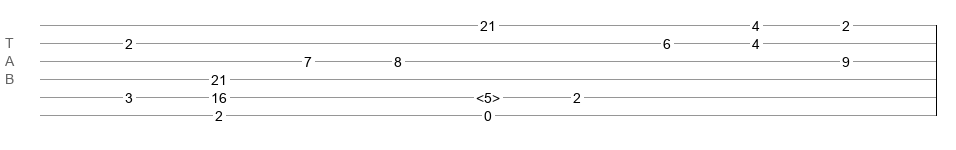0: (484, 108, 492, 118)
16: (211, 90, 227, 100)
2: (125, 36, 133, 46), (215, 108, 223, 118), (573, 90, 581, 100), (842, 18, 850, 28)
21: (211, 72, 227, 82), (480, 18, 496, 28)
3: (125, 90, 133, 100)
4: (752, 36, 760, 46), (752, 18, 760, 28)
6: (663, 36, 671, 46)
7: (304, 54, 312, 64)
8: (394, 54, 402, 64)
9: (842, 54, 850, 64)
harmonic: (476, 90, 500, 100)
